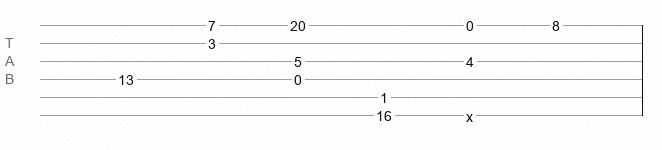0: (294, 72, 302, 82), (466, 18, 474, 28)
1: (380, 90, 388, 100)
13: (118, 72, 134, 82)
16: (376, 108, 392, 118)
20: (290, 18, 306, 28)
3: (208, 36, 216, 46)
4: (466, 54, 474, 64)
5: (294, 54, 302, 64)
7: (208, 18, 216, 28)
8: (552, 18, 560, 28)
x: (466, 109, 473, 117)
